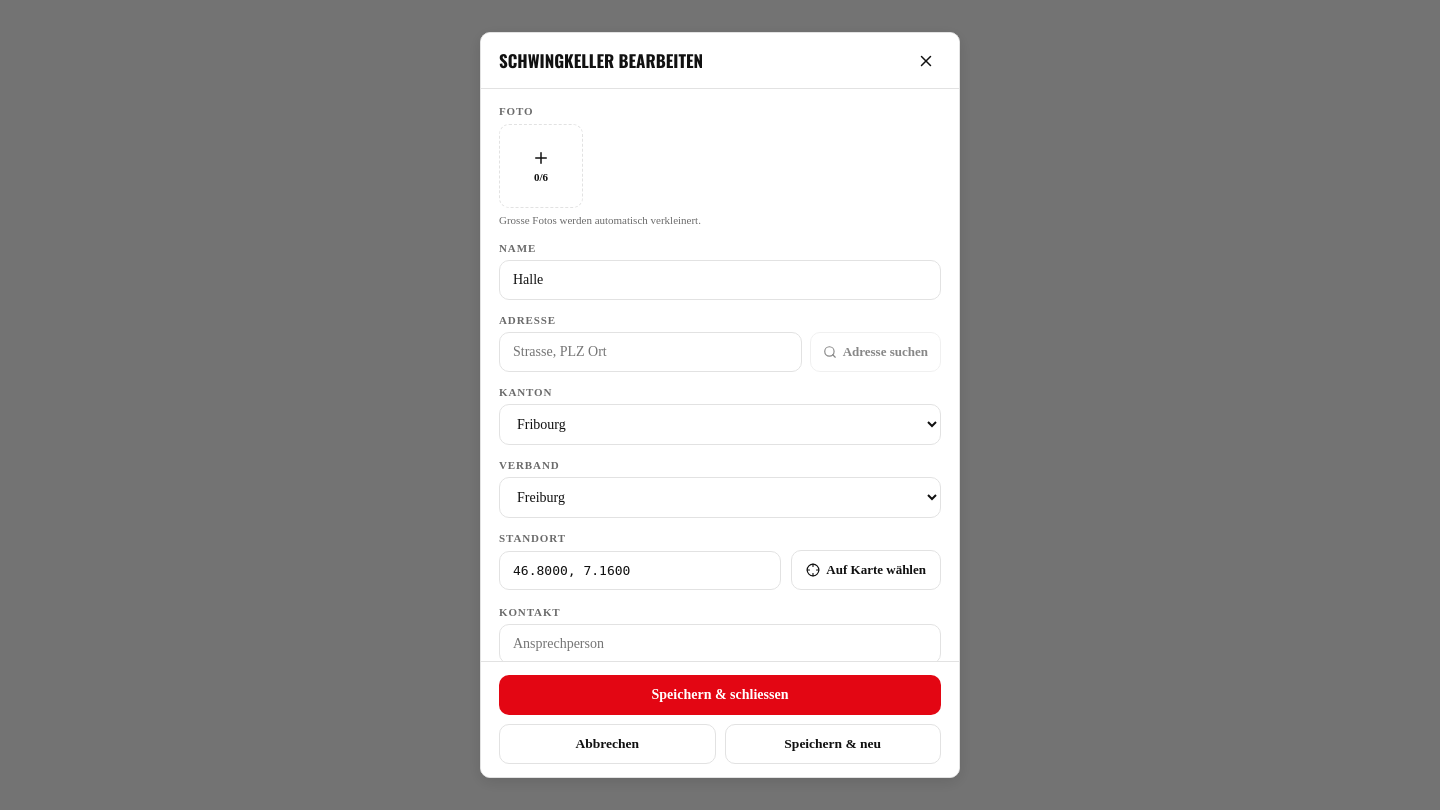
Scenario: EditForm association and address › says when the address isn't found
Type "Nirgendwo 99" into the field labelled "Adresse".
click(650, 352); type("Nirgendwo 99")  # box 499,332 -> 802,372
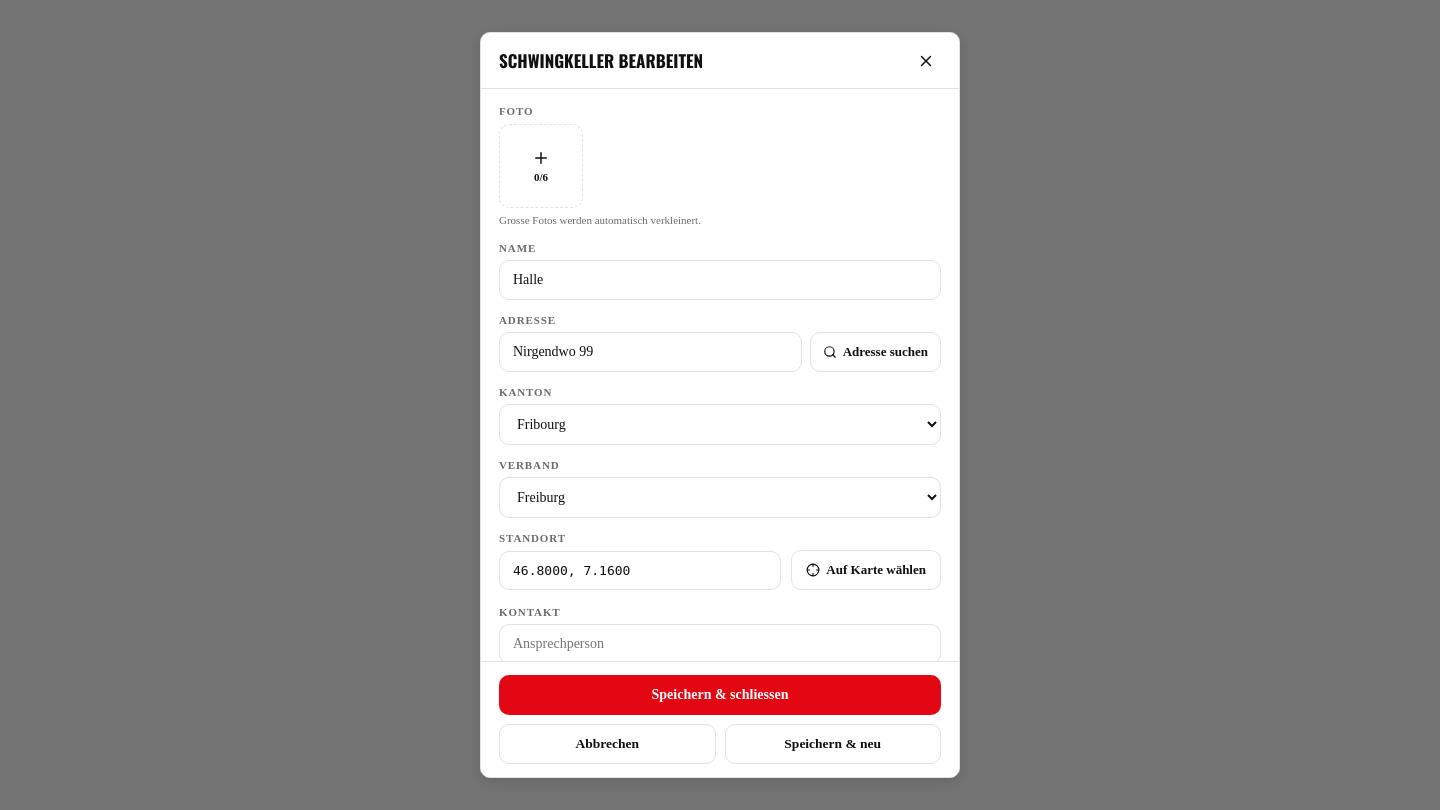
Click the button "Adresse suchen".
click(875, 352)  # box 810,332 -> 941,372
Wait 100 ms
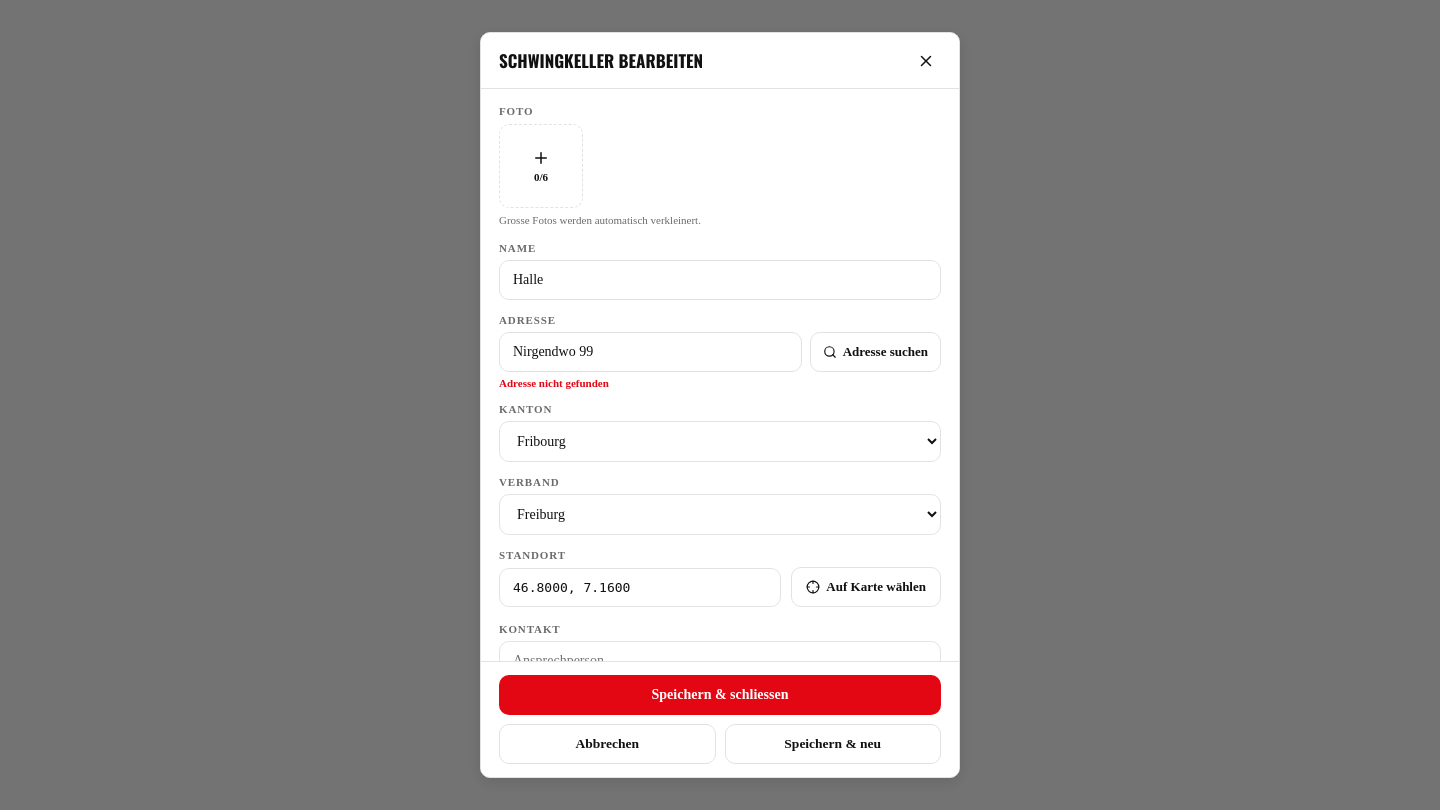
Now the text "Adresse nicht gefunden" is shown, box 499,377 -> 609,389
Replace the text in the field labelled "Adresse" with "Nirgendwo 98" at (650, 352), box 499,332 -> 802,372
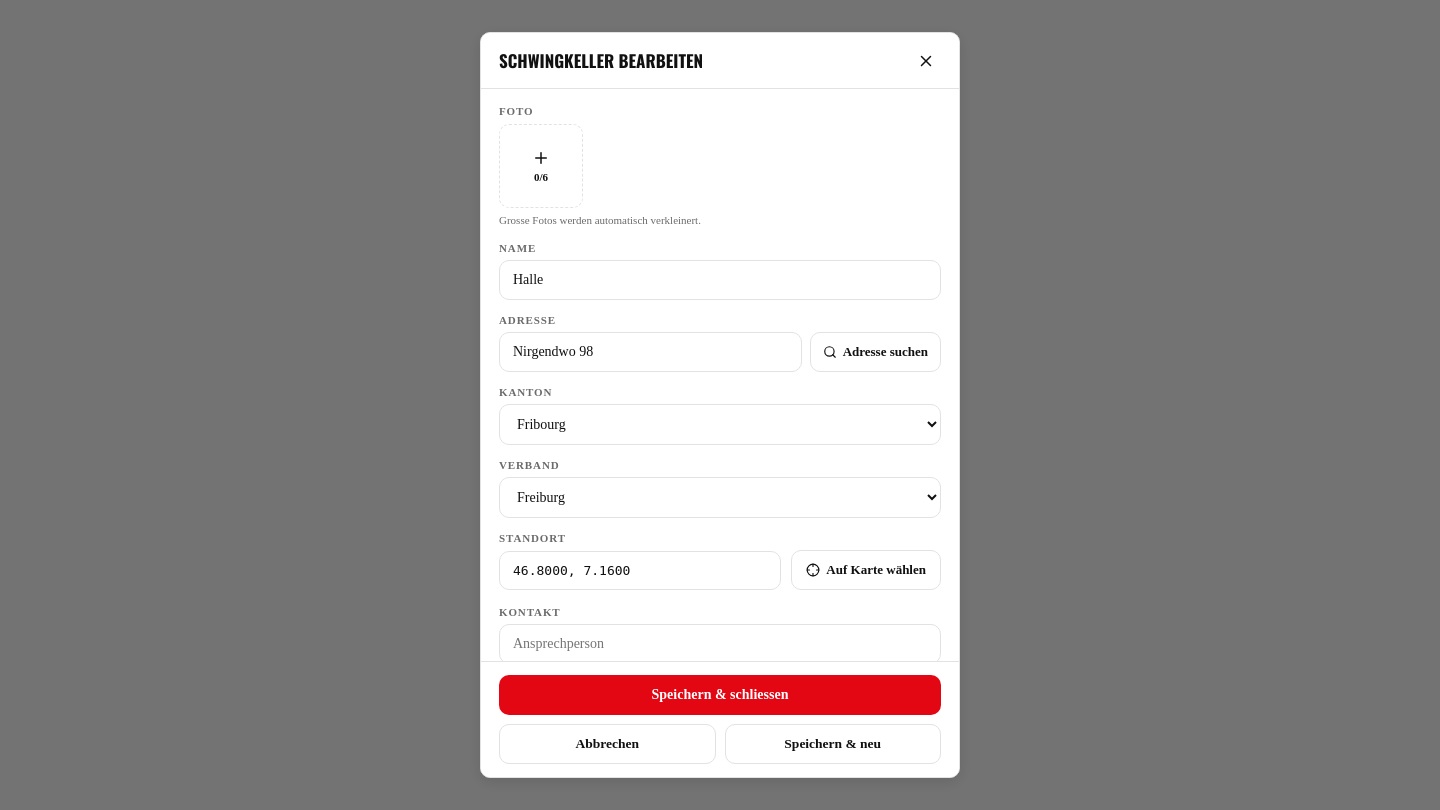
Now the text "Adresse nicht gefunden" is gone
